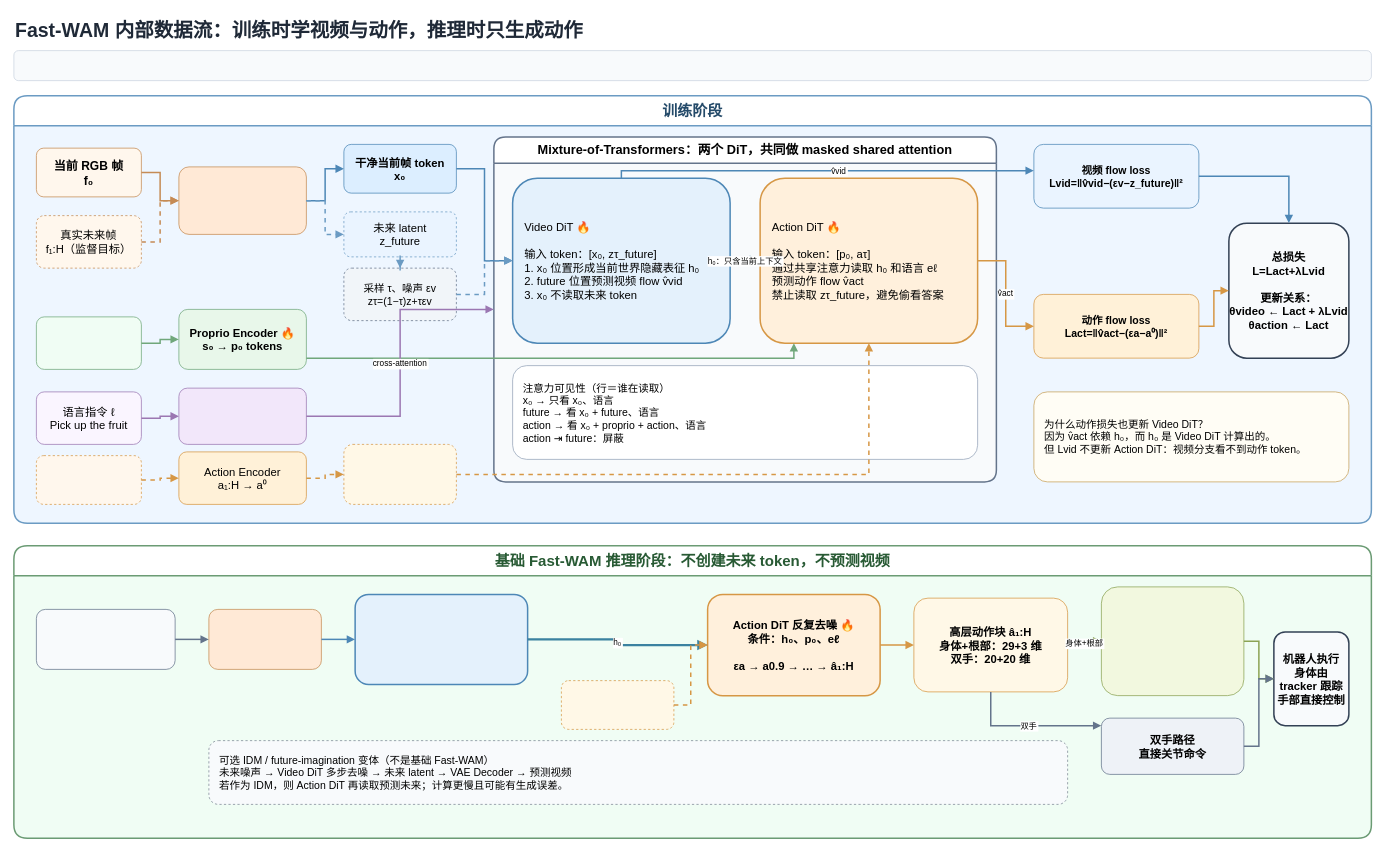
The diagram is 1385 pixels wide and 851 high, and some of its shapes have lost their labels. The shapes that lost their labels are listed below. From the top down, each one's centre as x and y in pixels, then its label:
[692,65]: ❄ 冻结参数 🔥 可训练参数 蓝色＝视频路径 橙色＝动作路径 虚线＝只在训练或可选模式出现
[242,200]: Video VAE Encoder ❄ 像素压缩到 latent
[88,342]: 当前本体状态 s₀＝关节角/速度
[242,415]: Text Encoder ❄ ℓ → eℓ
[88,479]: 真实动作块 a₁:H（监督目标）
[399,474]: 采样 τ、噪声 εa aτ=(1−τ)a⁰+τεa
[105,639]: 当前输入 RGB f₀ + proprio s₀ + 指令 ℓ
[264,639]: VAE Encoder ❄ f₀ → x₀
[441,639]: Video DiT 单次前向 🔥 只有 x₀，没有 future slots 输出内部世界表征 h₀ 不会输出预测视频
[1172,641]: 身体/根部路径 SONIC Encoder → 64-D motion latent → SONIC Decoder → 低层跟踪控制
[617,704]: 随机动作噪声 aτ=1 ≈ εa
